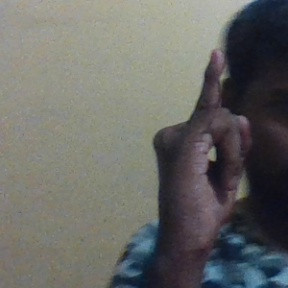I: (152, 49, 252, 240)
